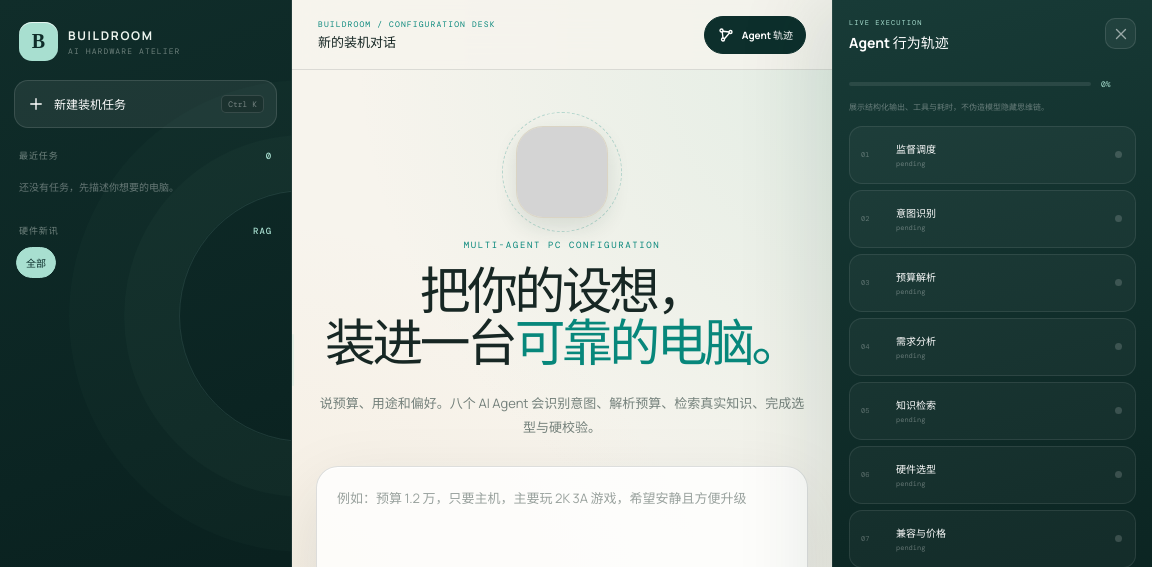
Test: App conversation › shows an agent failure notice instead of an empty build report
Type "我已经有 RTX 4070" into the text box at (562,515), box [317,467,807,563]
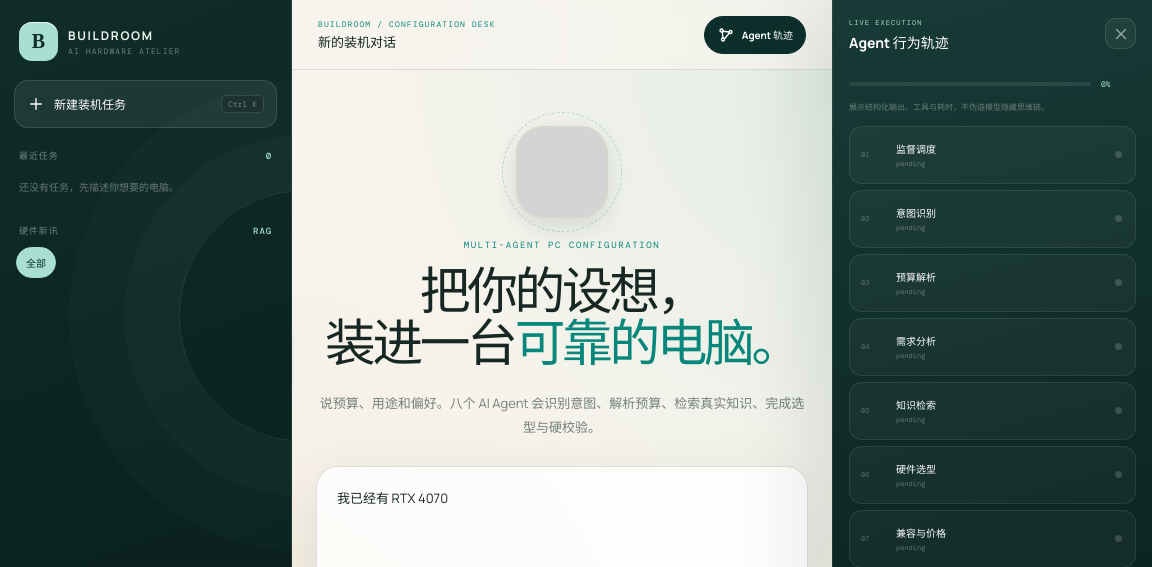
Press Enter
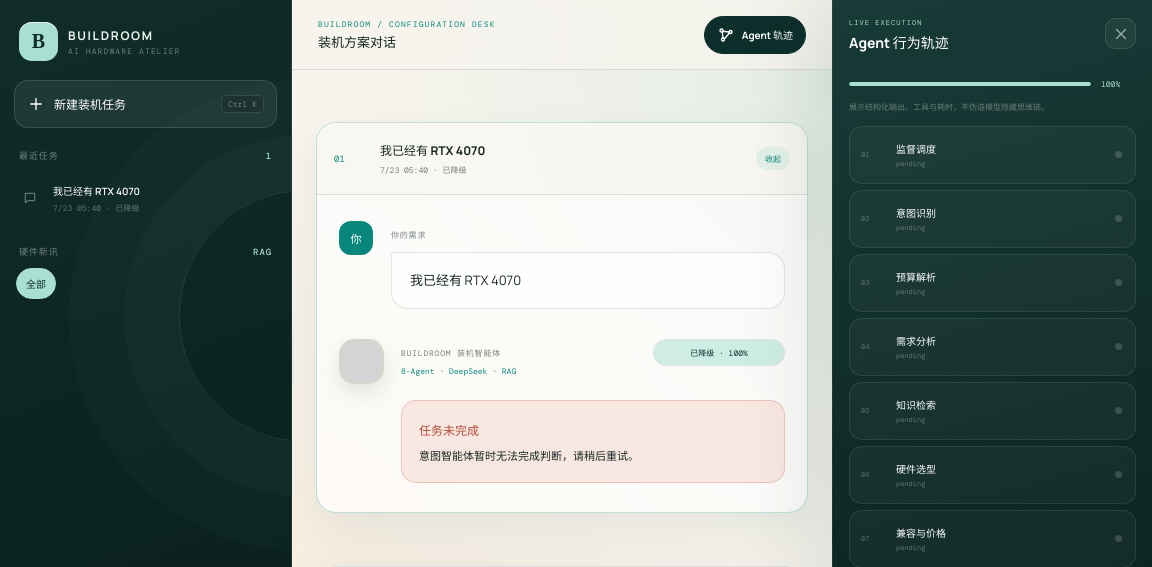
Result: the text "意图智能体暂时无法完成判断，请稍后重试。" is shown at [419,448,639,463]
